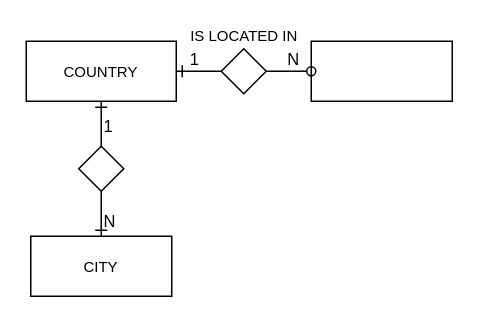
This 479x323 diagram has some shape labels left out. The shapes that lost their labels are listed below. From the top down, each one's box as (x1, y1, x2, y2) in pixels, then its label:
(310, 40, 452, 101): AIRPORT
(77, 145, 124, 191): BELONGS TO
